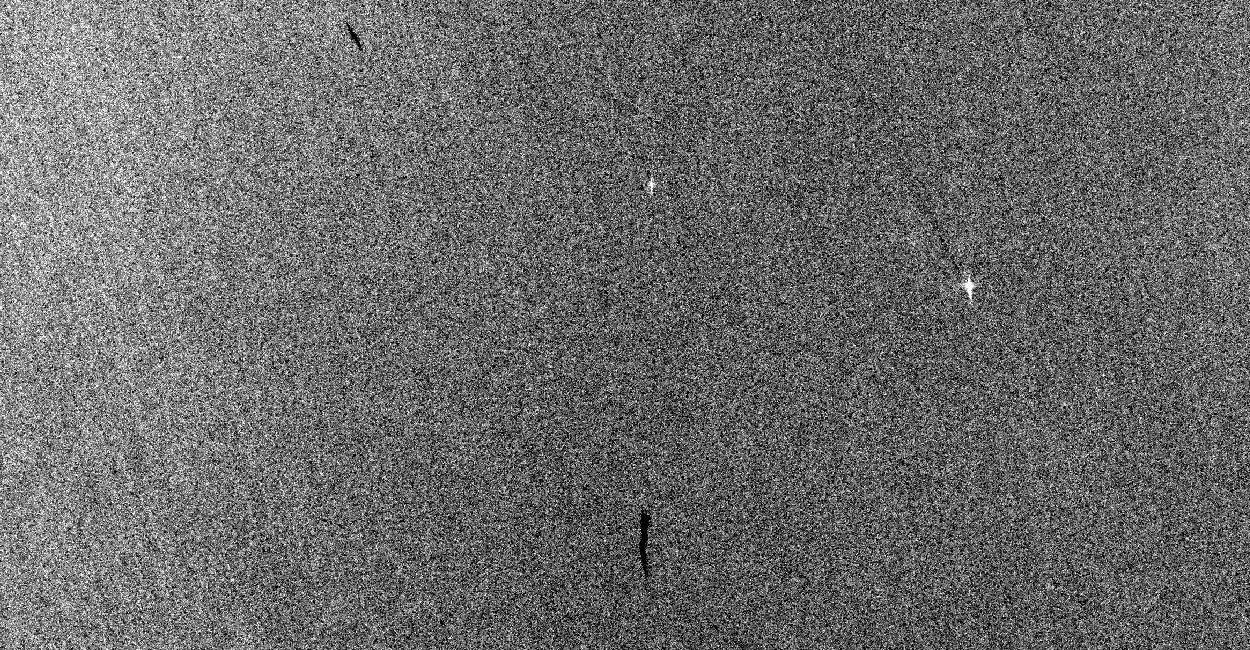Oil Spill: (636, 508, 652, 580), (345, 22, 364, 52)
